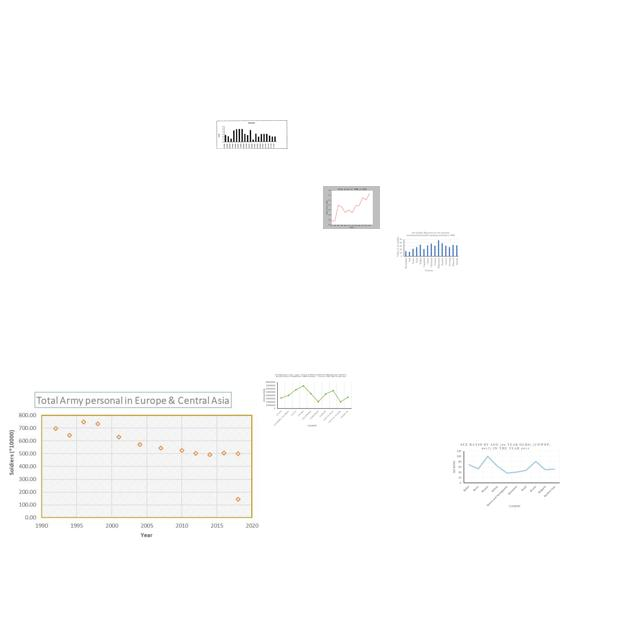Graph: (5, 390, 261, 544), (450, 442, 560, 508), (262, 373, 353, 428), (396, 231, 460, 273), (323, 186, 380, 229), (216, 120, 288, 149)
